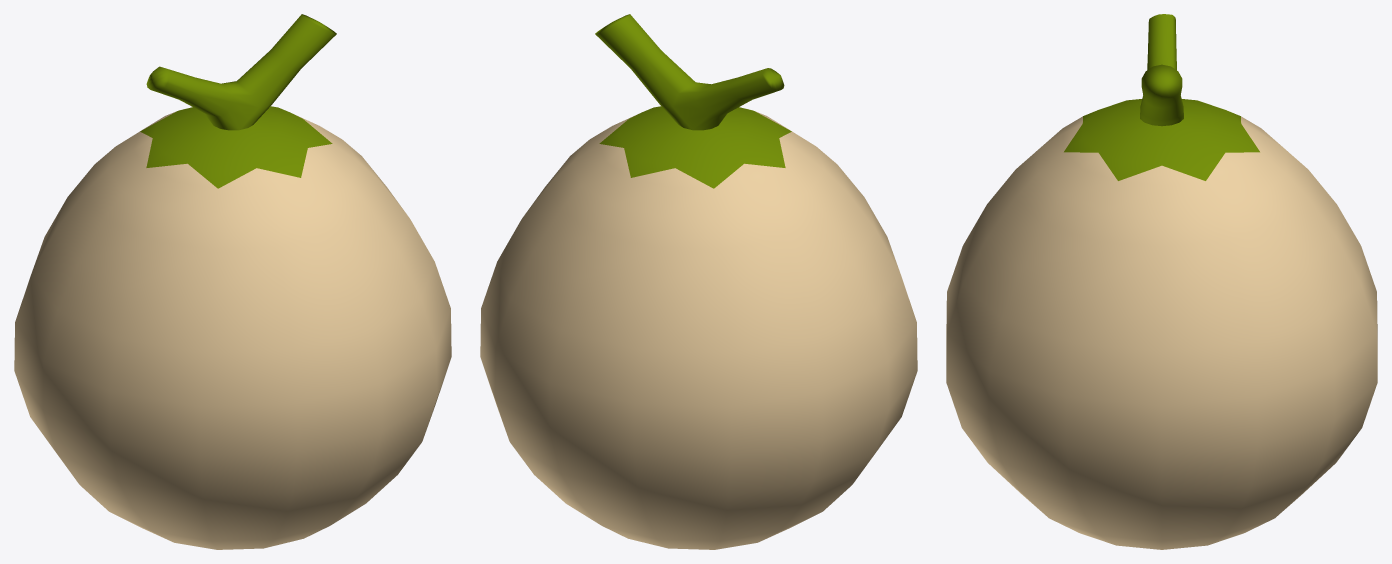
File: coconat.fbx
3 renders of one model, left to right at view 1: azimuth 30°, elevation 25°; view 2: azimuth 150°, elevation 25°; view 3: azimuth 270°, elevation 25°, orthographic.
Parts seen in each view (by area): view 1: pSphere33; view 2: pSphere33; view 3: pSphere33.
Boxes of the visible parts, left/top/right/bottom form: pSphere33: left=14, top=14, right=451, bottom=549; pSphere33: left=480, top=14, right=917, bottom=549; pSphere33: left=946, top=14, right=1377, bottom=549.
Bounding box in the file's own units: 4.64 × 5.86 × 4.53.
